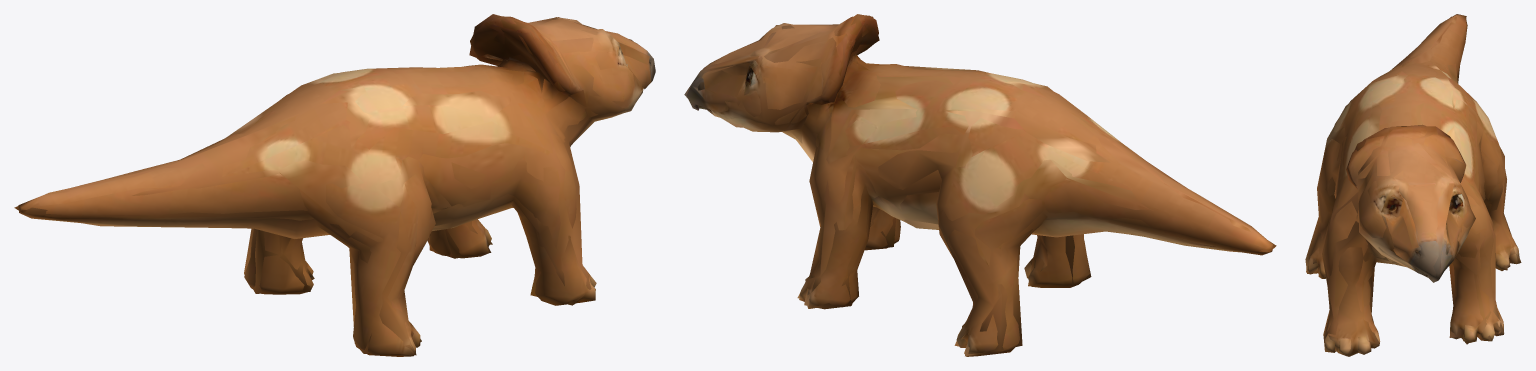
The model's file is grasbitur.glb.
3 renders of one model, left to right at view 1: azimuth 30°, elevation 25°; view 2: azimuth 150°, elevation 25°; view 3: azimuth 270°, elevation 25°, orthographic. The views are drawn at different scales.
Parts seen in each view (by area): view 1: near, far; view 2: near, far; view 3: near, far.
Boxes of the visible parts, x1,y1,x2,y2 form: near: [18, 16, 655, 356]; far: [14, 14, 649, 355]; near: [686, 15, 1272, 356]; far: [684, 14, 1276, 356]; near: [1306, 14, 1519, 356]; far: [1305, 16, 1521, 356].
Bounding box in the file's own units: 2.51 × 0.9826 × 0.8905.
Materials: 1 (1 with a texture image).
